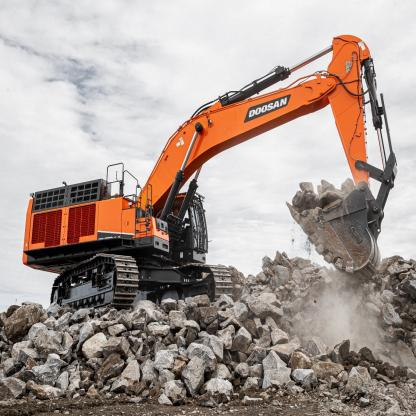excavator: (21, 28, 398, 320)
